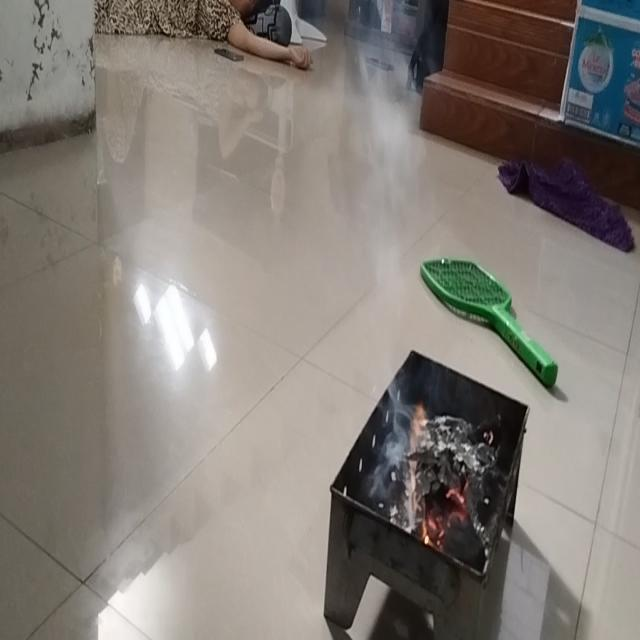fire: (349, 9, 428, 210), (378, 380, 412, 472)
smoke: (406, 399, 432, 452)
